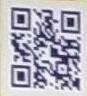qrcode: (12, 8, 82, 93)
